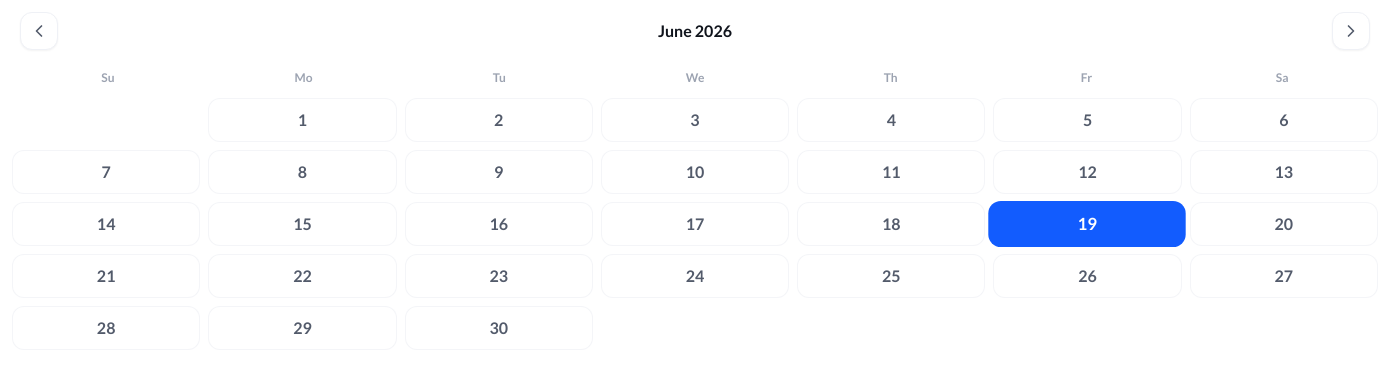
Test: MonthCalendar › steps to the next month and announces it
Click the button named "Next month" at (1351, 31), box [1332,12,1370,50]
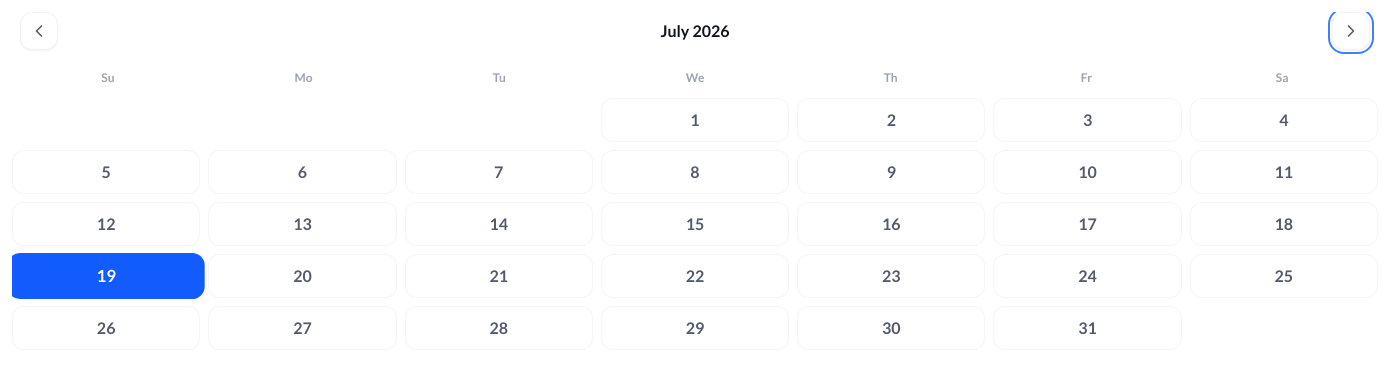
Now the table named "July 2026" is shown
Now the number of cells is 31
